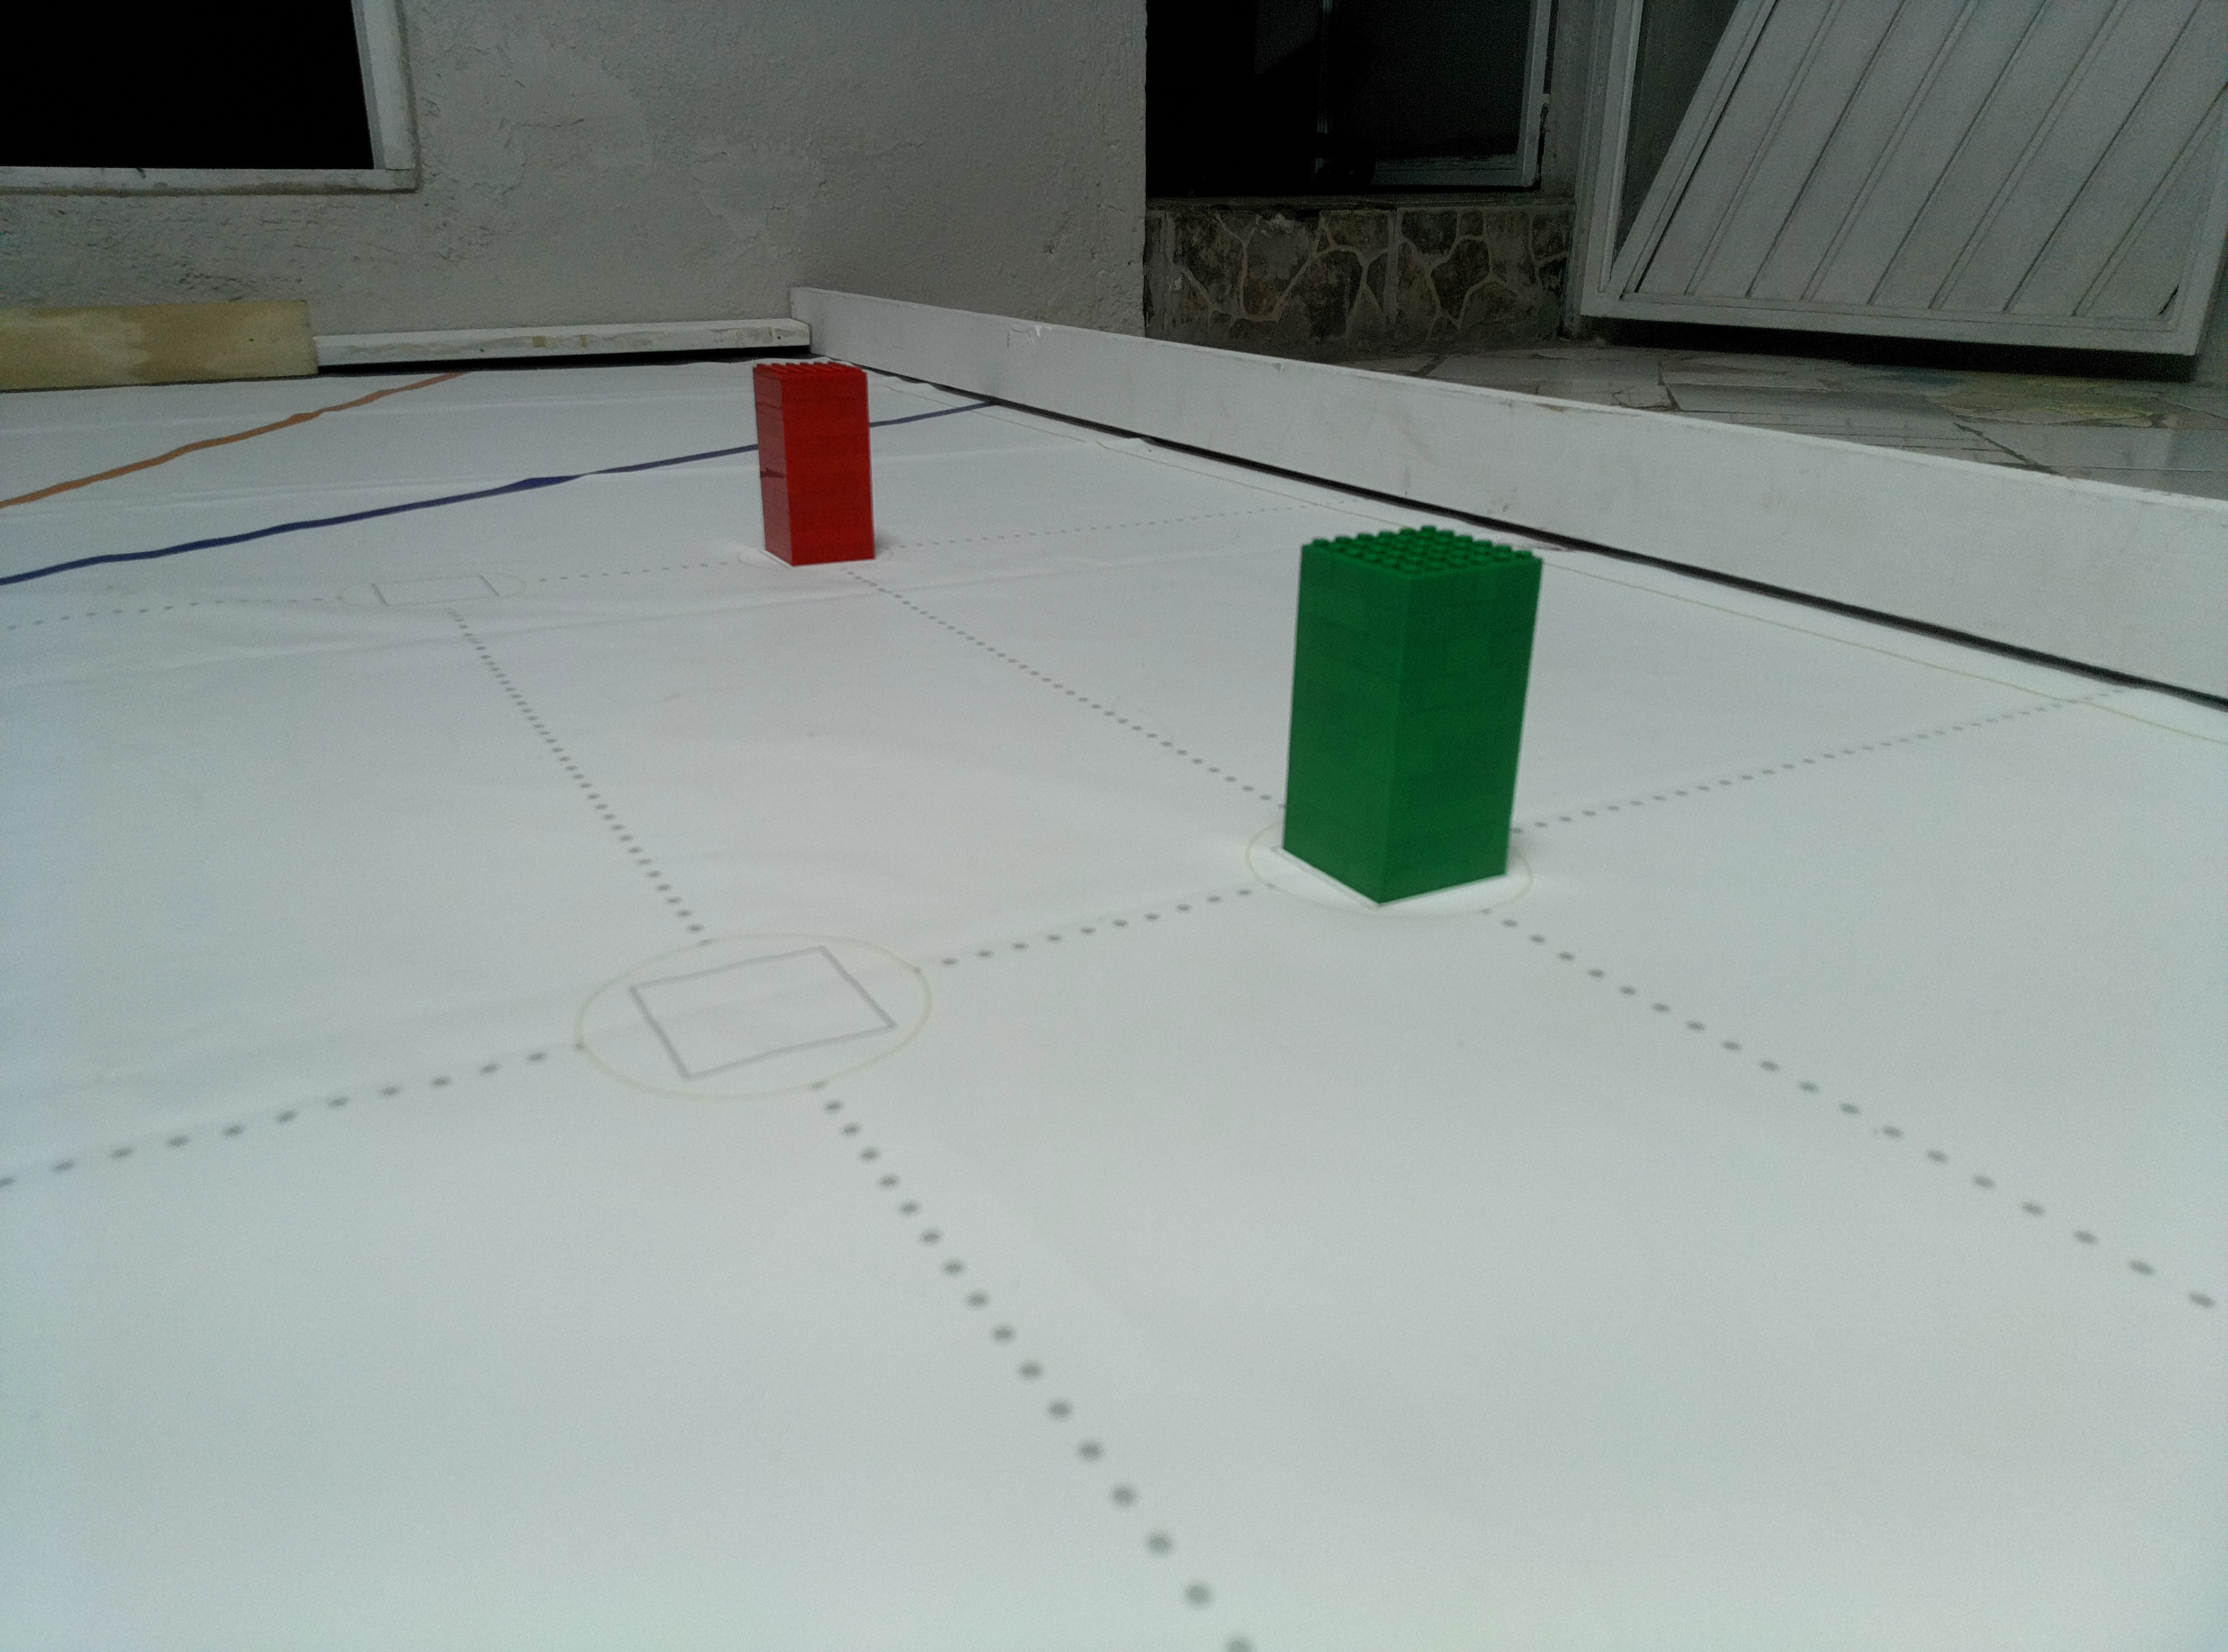greenbox: (1277, 519, 1544, 908)
redbox: (750, 357, 880, 567)
